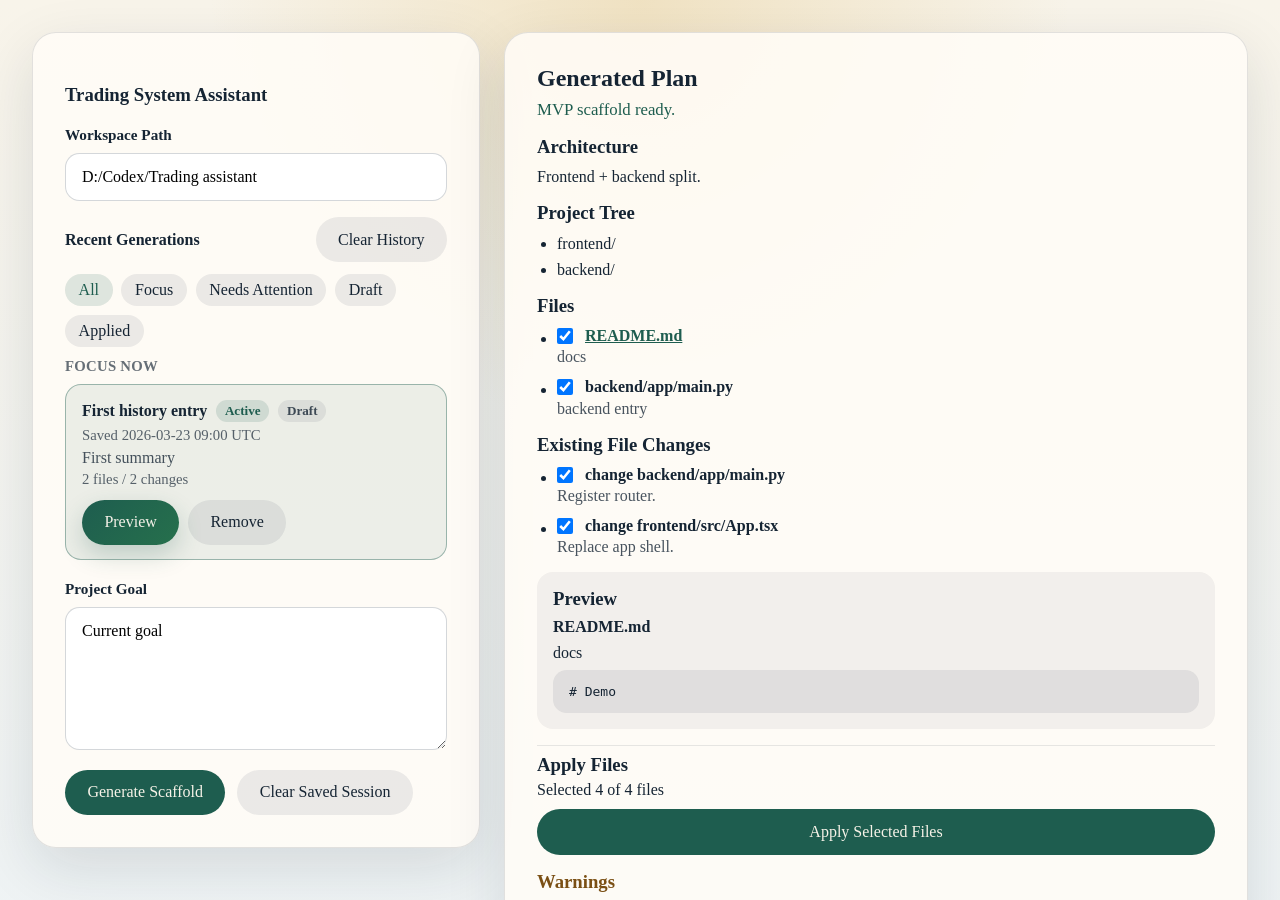
App › removes the active badge when deleting the active generation
Click the button with aria-label "remove first history entry": (237, 522) [188, 500, 286, 545]
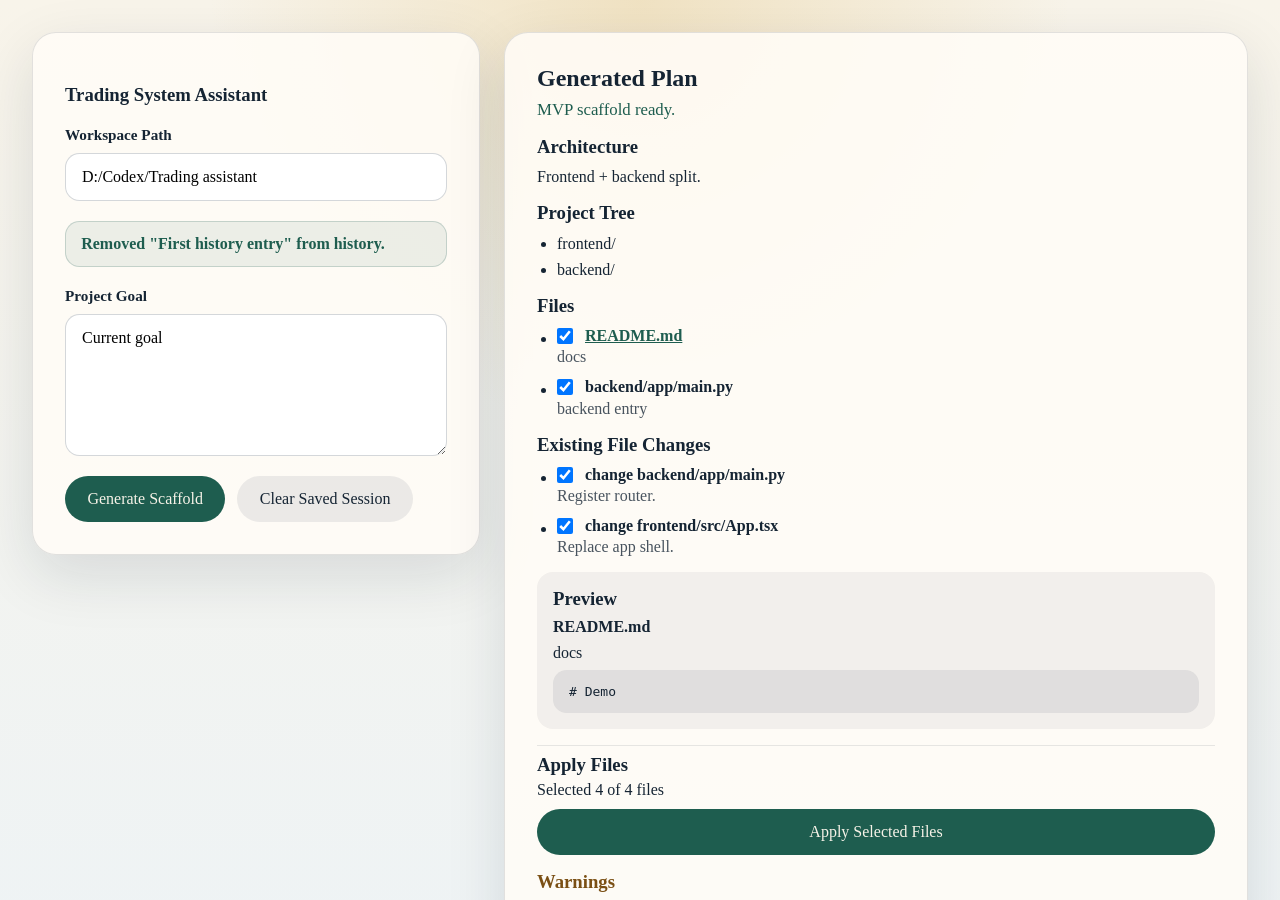
Expected: the heading "Recent Generations" is gone
Expected: the text "Active" is gone
